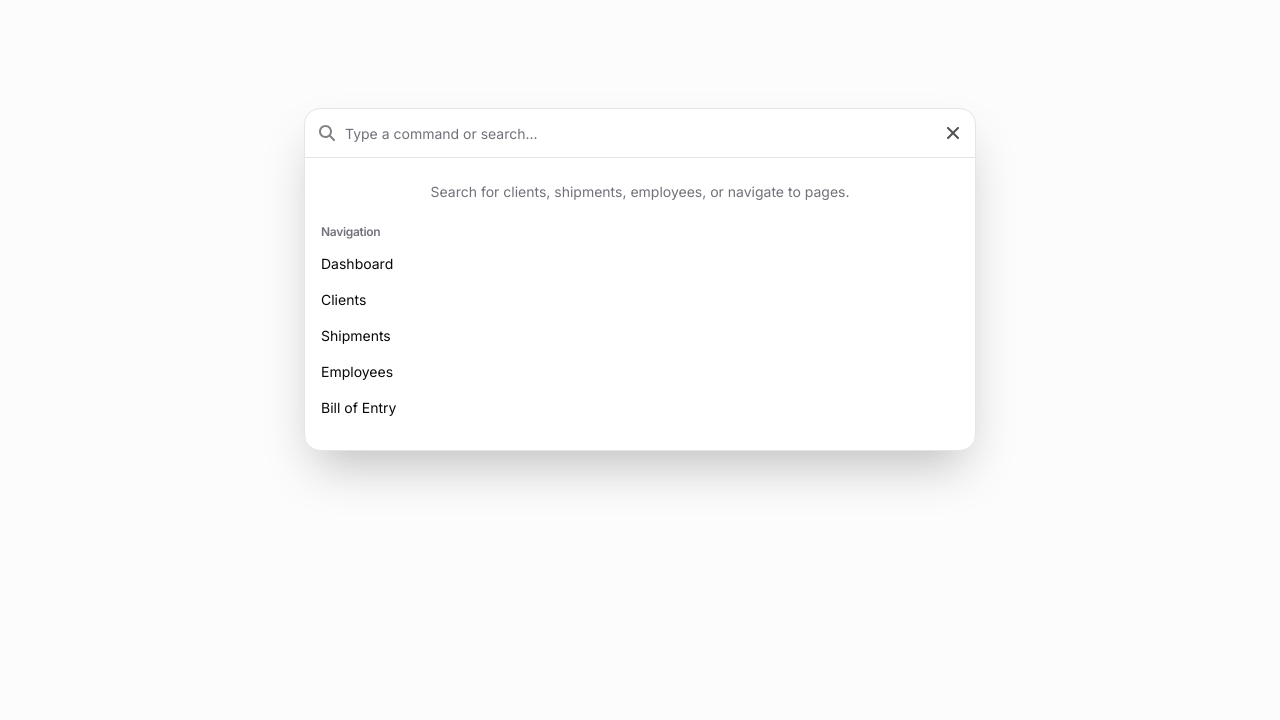
Scenario: CommandMenu Component › shows no results message when no matches found
Step 1. Type "xyznonexistent" into the field with placeholder "Type a command or search..." → (644, 133), box [345,109,943,157]
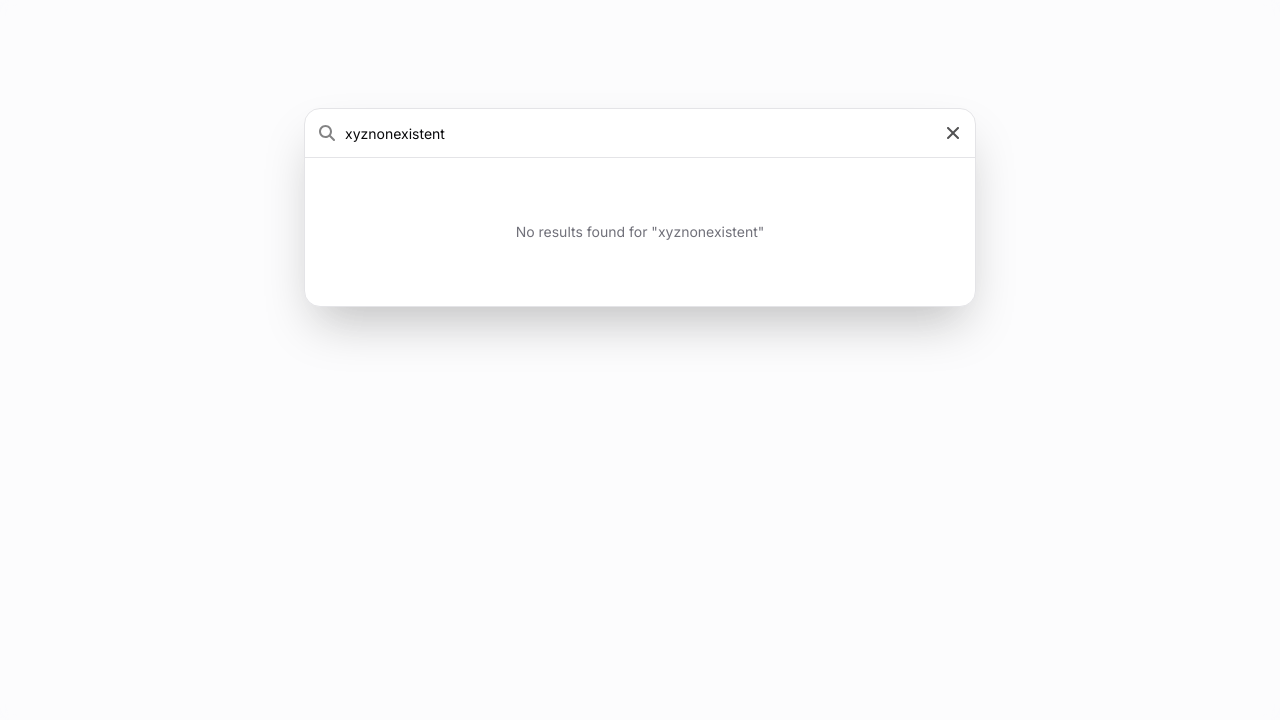
Result: the text "No results found for \"xyznonexistent\"" is shown at [516,223,764,240]
